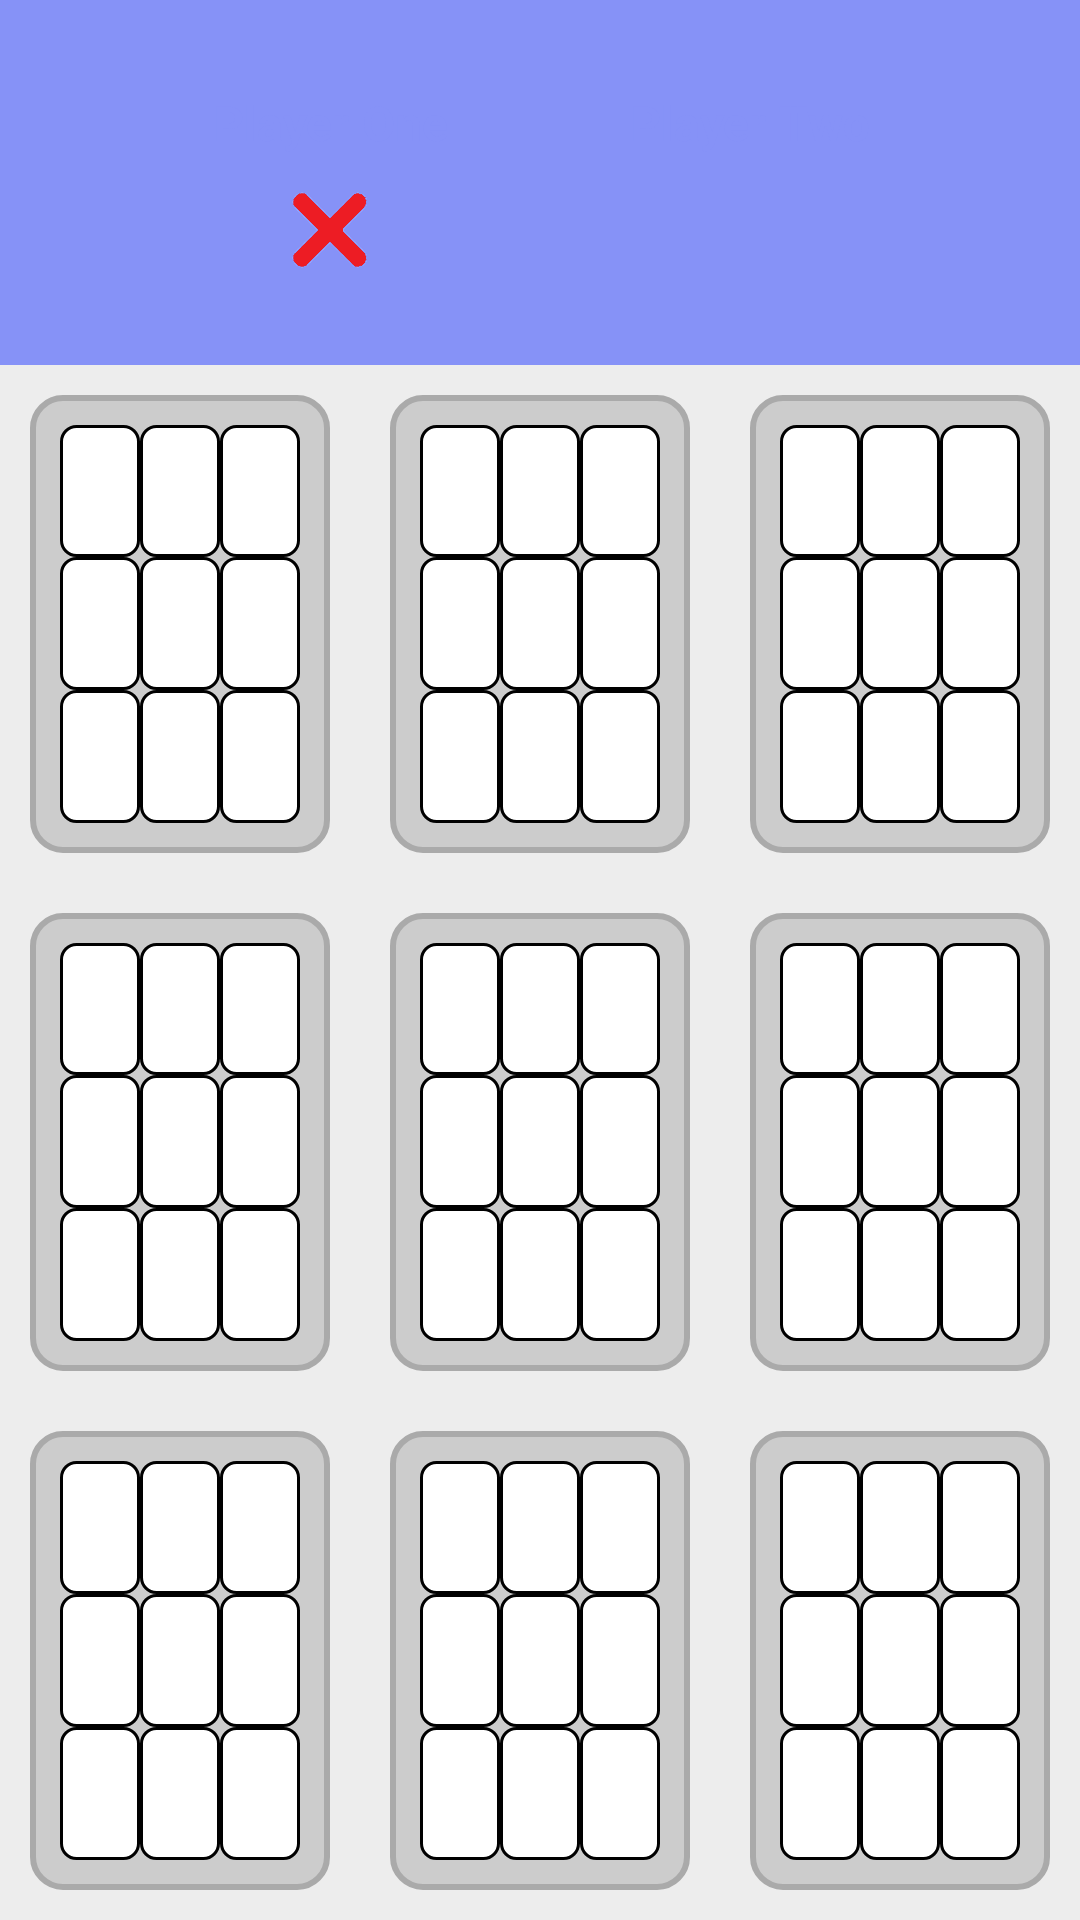

Named icons in this screenshot (1080 x 1920) and their bounding boxes, (x1, y1, x2, y2):
ximage: (293, 193, 367, 267)
